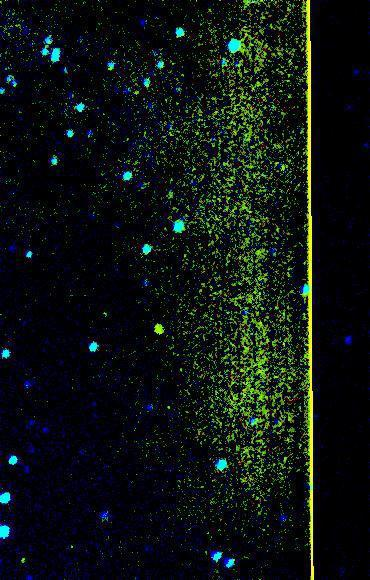star: (6, 541, 36, 571)
